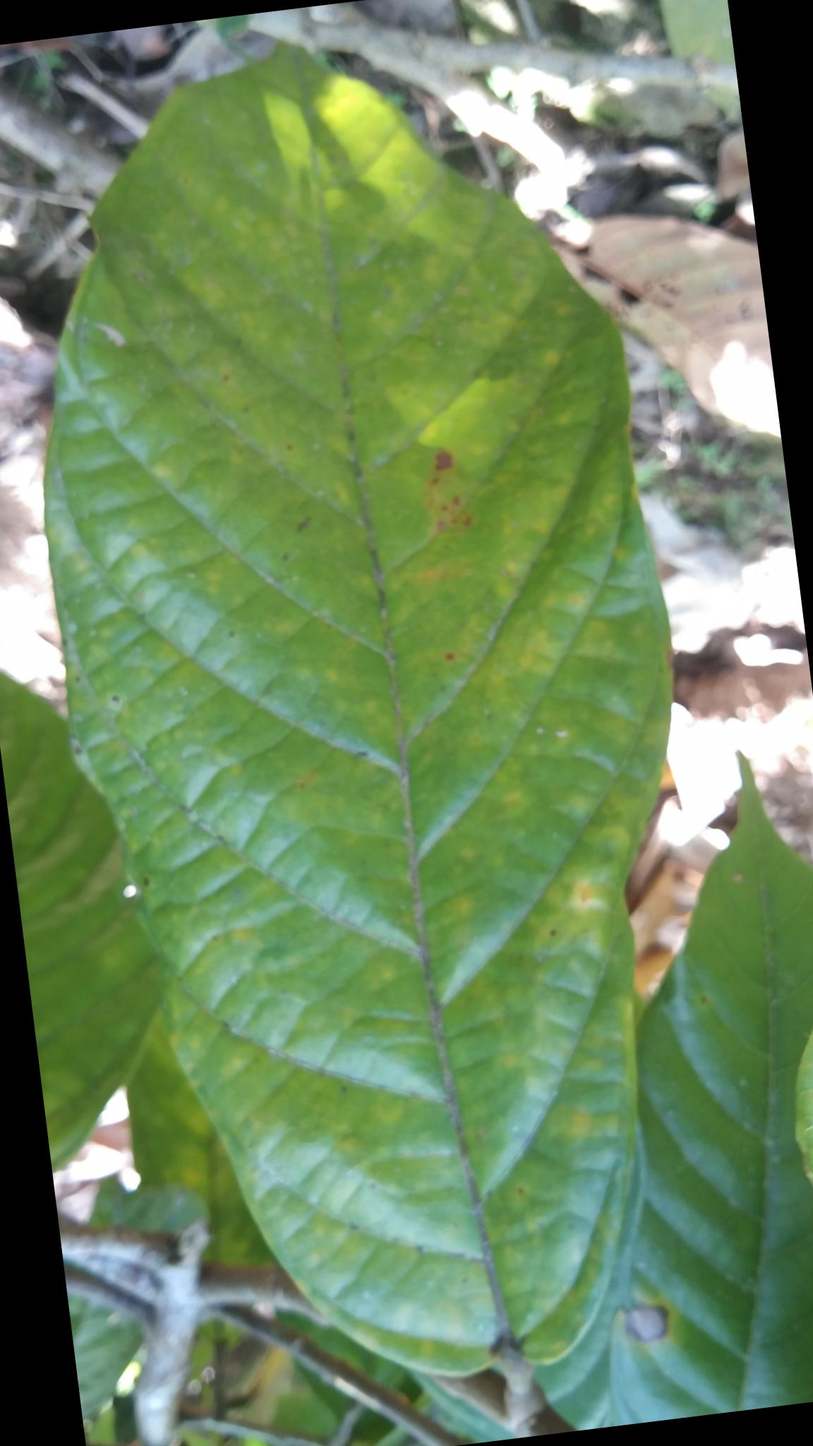Potasio: (35, 23, 660, 1380)
